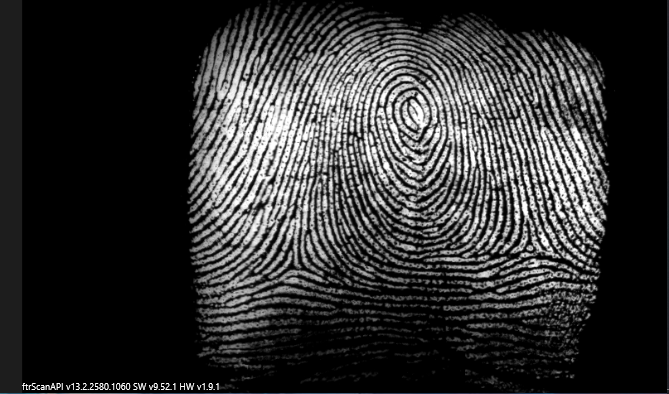nucelo: (389, 89, 431, 143)
verticilo: (509, 216, 547, 257), (280, 247, 317, 280)
